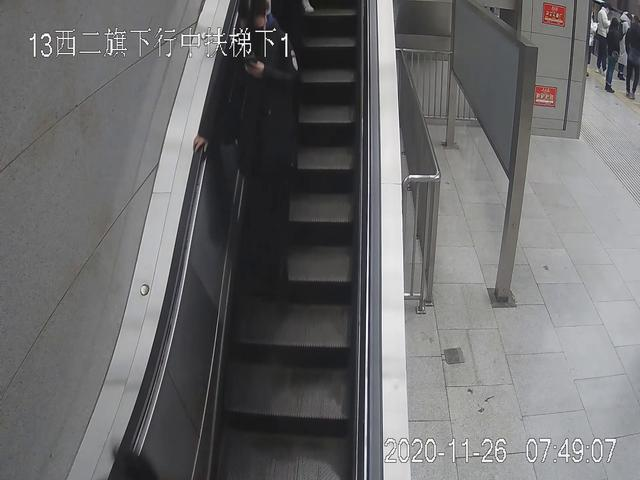person: (194, 1, 301, 299), (593, 3, 615, 73), (603, 18, 621, 94)
